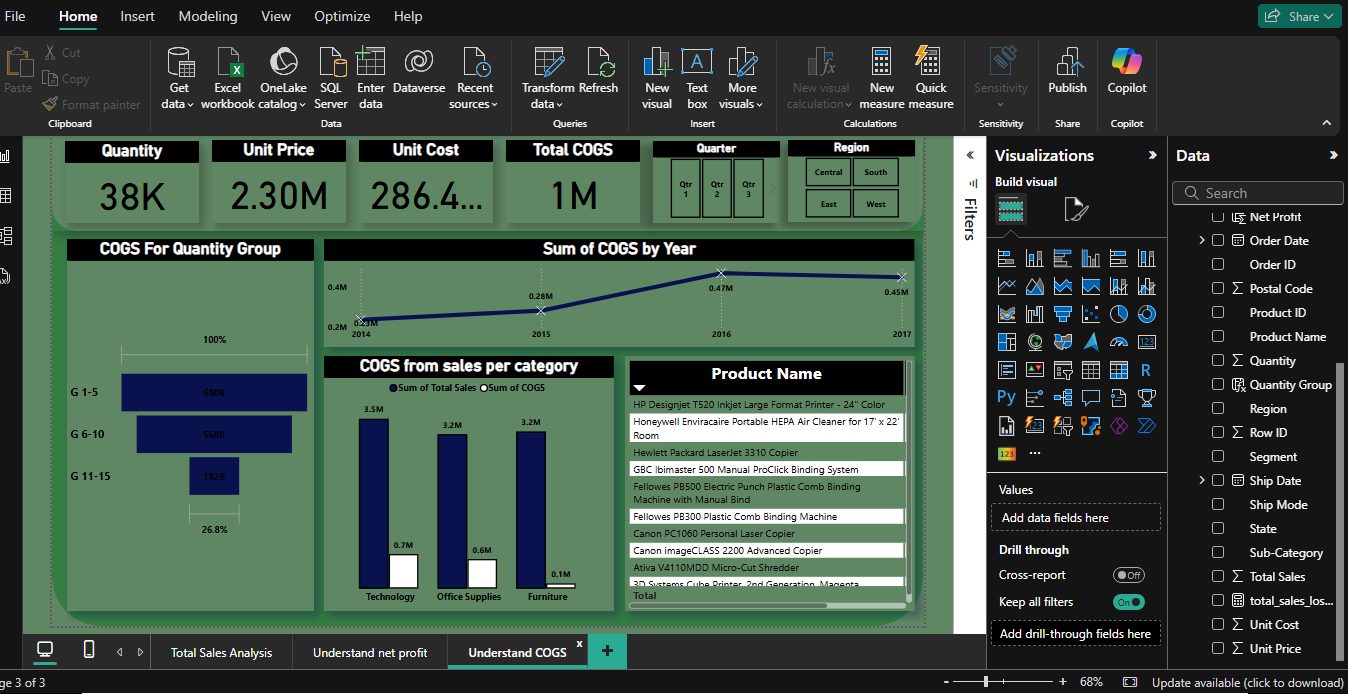

Layout of this report page (visuals, bound fields, positions):
{"tool":"powerbi","page":{"name":"Understand  COGS","canvas":[1280,720],"ordinal":3},"visuals":[{"type":"shape","box":[0,0,1279.8,720],"z":0},{"type":"shape","box":[0,0,1279.8,139.6],"z":1000},{"type":"card","title":"Quantity","fields":{"Values":["Sum(Orders.Quantity)"]},"box":[19.1,6.7,196.9,120.5],"z":2000},{"type":"card","title":"Unit Price","fields":{"Values":["Sum(Orders.Unit Price)"]},"box":[235.1,6,196.9,122],"z":3000},{"type":"card","title":"Unit Cost","fields":{"Values":["Sum(Orders.Unit Cost)"]},"box":[451.1,6,196.9,122],"z":4000},{"type":"shape","box":[22,151.3,362.9,546.6],"z":5000},{"type":"shape","box":[842,322.5,426.1,374.7],"z":6000},{"type":"card","title":"Total COGS","fields":{"Values":["Sum(Orders.COGS)"]},"box":[667.1,6,196.9,122],"z":7000},{"type":"shape","box":[399.7,322.5,426.1,374.7],"z":8000},{"type":"shape","box":[399.7,151.3,868.4,158.7],"z":9000},{"type":"slicer","title":"Region","fields":{"Values":["Orders.Region"]},"box":[1081.5,5.9,186.6,120.5],"z":10000},{"type":"slicer","title":"Quarter","fields":{"Values":["Orders.Order Date.Variation.Date Hierarchy.Quarter"]},"box":[883.1,6.7,186.6,120.5],"z":11000},{"type":"clusteredColumnChart","title":"COGS from sales per category","fields":{"Y":["Sum(Orders.Total Sales)","Sum(Orders.COGS)"],"Category":["Orders.Category"]},"box":[399.7,323.3,426.1,373.2],"z":12000},{"type":"lineChart","fields":{"Category":["Orders.Order Date.Variation.Date Hierarchy.Year","Orders.Order Date.Variation.Date Hierarchy.Quarter"],"Y":["Sum(Orders.COGS)"]},"box":[399.7,151.3,868.4,158.7],"z":13000},{"type":"funnel","title":"COGS For Quantity Group","fields":{"Category":["Orders.Quantity Group"],"Y":["Sum(Orders.COGS)"]},"box":[22,151.3,362.9,545.1],"z":14000},{"type":"tableEx","fields":{"Values":["Orders.Product Name","Sum(Orders.COGS)"]},"box":[841.6,324.2,426.7,374.6],"z":15000}]}

Visuals, with their boxes on the page's 1280x720 design canvas (x1, y1, x2, y2). These are canvas units, not pixel positions in the 1348x694 screenshot, which may show the page scaled, cropped or inside an application window:
shape: [0, 0, 1280, 720]
shape: [0, 0, 1280, 140]
"Quantity" card: [19, 7, 216, 127]
"Unit Price" card: [235, 6, 432, 128]
"Unit Cost" card: [451, 6, 648, 128]
shape: [22, 151, 385, 698]
shape: [842, 322, 1268, 697]
"Total COGS" card: [667, 6, 864, 128]
shape: [400, 322, 826, 697]
shape: [400, 151, 1268, 310]
"Region" slicer: [1082, 6, 1268, 126]
"Quarter" slicer: [883, 7, 1070, 127]
"COGS from sales per category" clusteredColumnChart: [400, 323, 826, 696]
lineChart - Orders.Order Date.Variation.Date Hierarchy.Year x Orders.Order Date.Variation.Date Hierarchy.Quarter: [400, 151, 1268, 310]
"COGS For Quantity Group" funnel: [22, 151, 385, 696]
tableEx - Orders.Product Name x Sum(Orders.COGS): [842, 324, 1268, 699]
